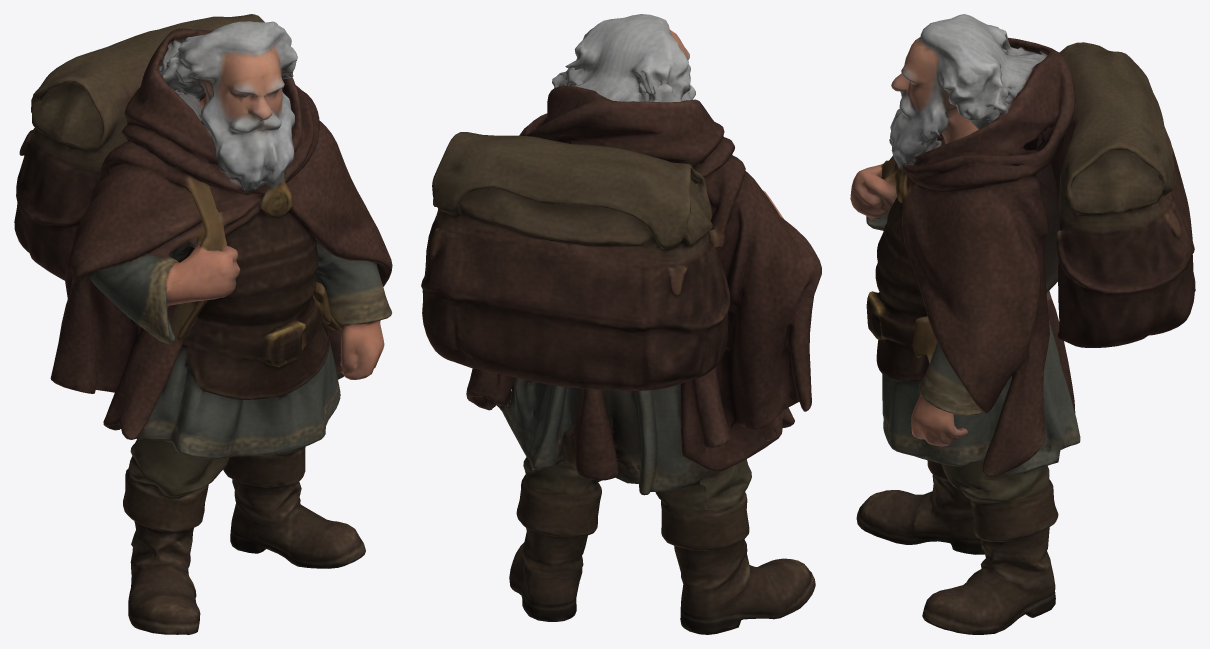
Rendered from generation_1.glb.
3 renders of one model, left to right at view 1: azimuth 30°, elevation 25°; view 2: azimuth 150°, elevation 25°; view 3: azimuth 270°, elevation 25°, orthographic. The views are drawn at different scales.
Parts seen in each view (by area): view 1: geometry_0; view 2: geometry_0; view 3: geometry_0.
Part boxes in pixels (left/top/right/bottom): geometry_0: left=14, top=14, right=392, bottom=634; geometry_0: left=421, top=14, right=821, bottom=634; geometry_0: left=850, top=14, right=1195, bottom=634.
Bounding box in the file's own units: 0.6269 × 1 × 0.563.
1 material, 1 textured.
